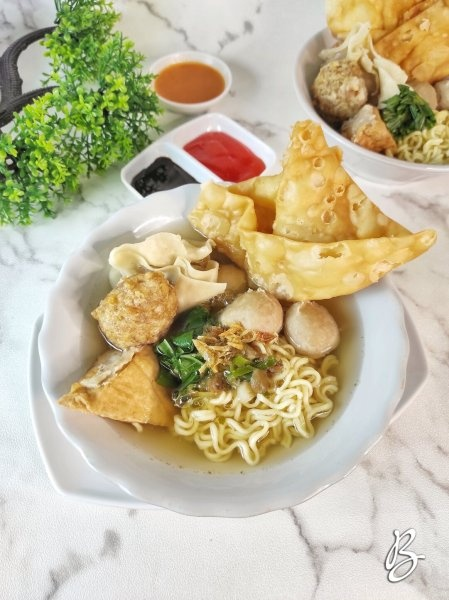bakso_malang: (54, 123, 442, 473)
